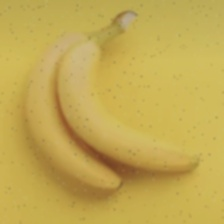banana: (24, 22, 209, 188)
